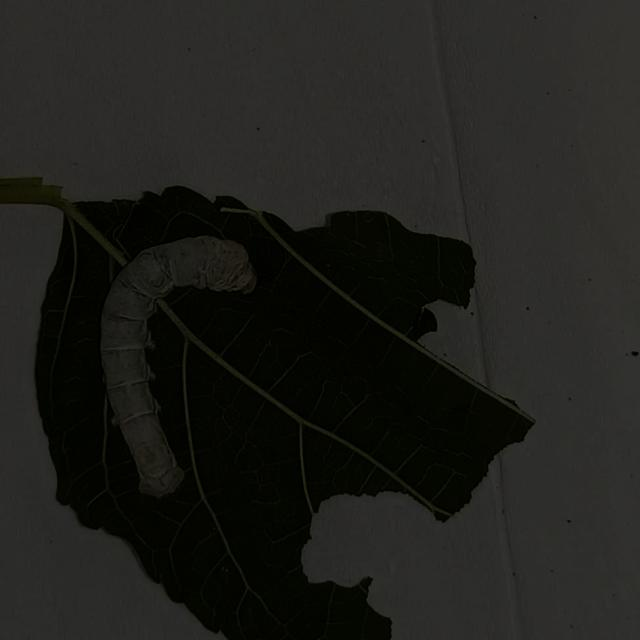Healthy: (91, 222, 268, 509)
